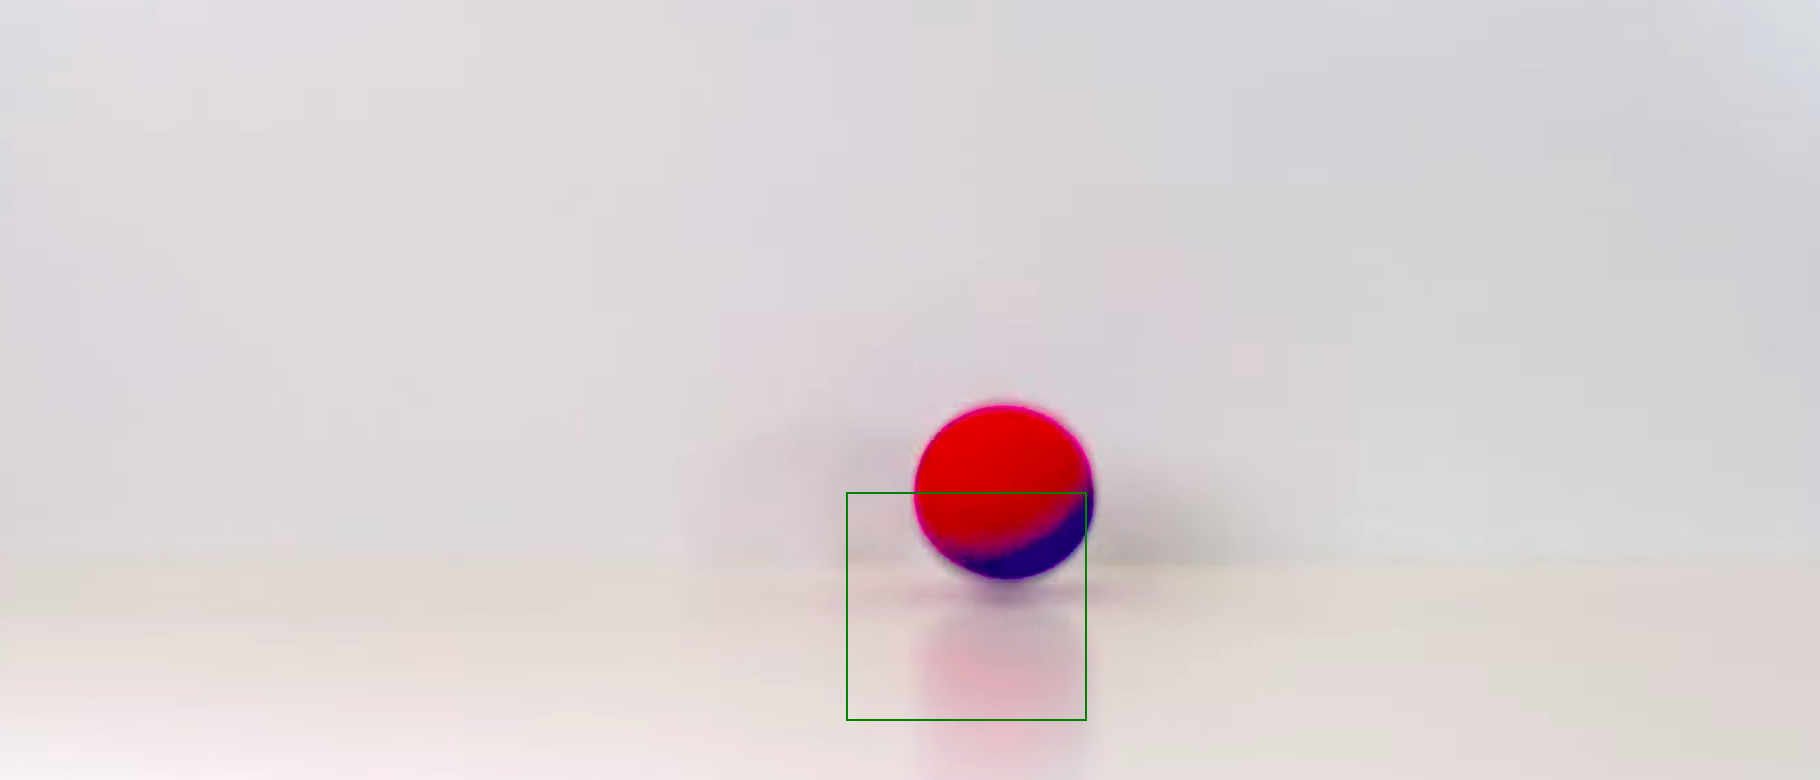Circle: (910, 397, 1106, 588)
